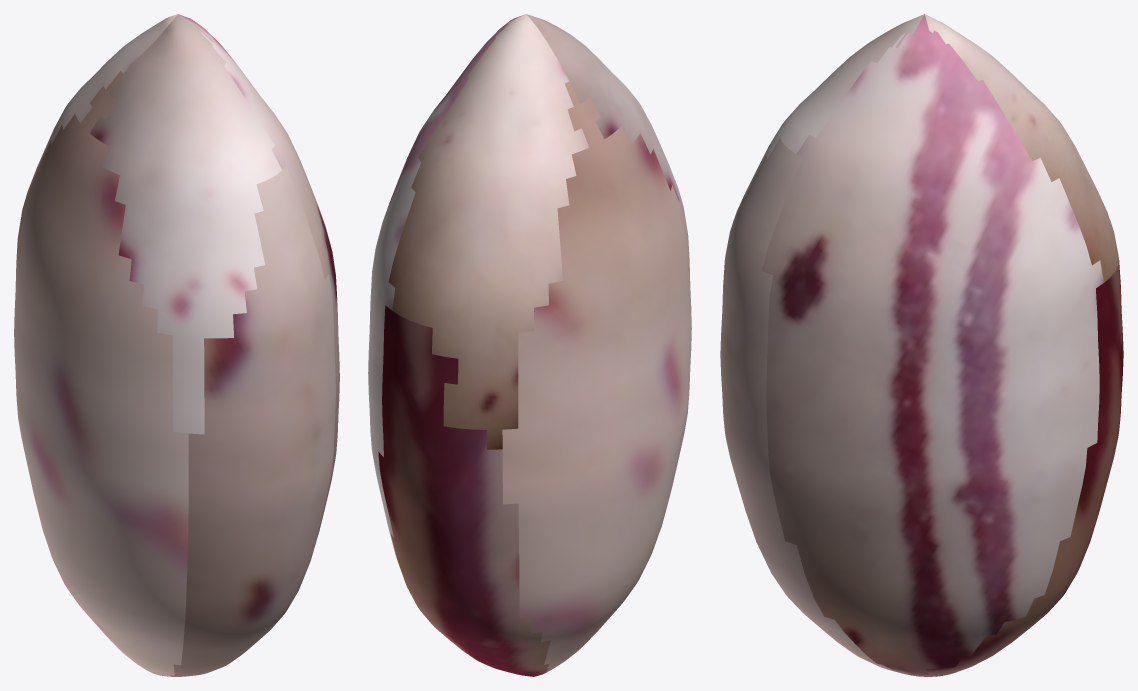
The model's file is seed.fbx.
3 renders of one model, left to right at view 1: azimuth 30°, elevation 25°; view 2: azimuth 150°, elevation 25°; view 3: azimuth 270°, elevation 25°, orthographic.
Visible parts, largest first — view 1: Sphere; view 2: Sphere; view 3: Sphere.
Part boxes in pixels (left/top/right/bottom): Sphere: left=14, top=14, right=339, bottom=676; Sphere: left=368, top=14, right=691, bottom=676; Sphere: left=720, top=14, right=1123, bottom=676.
Size of the model in its own units: 0.0392 by 0.0529 by 0.0961.
